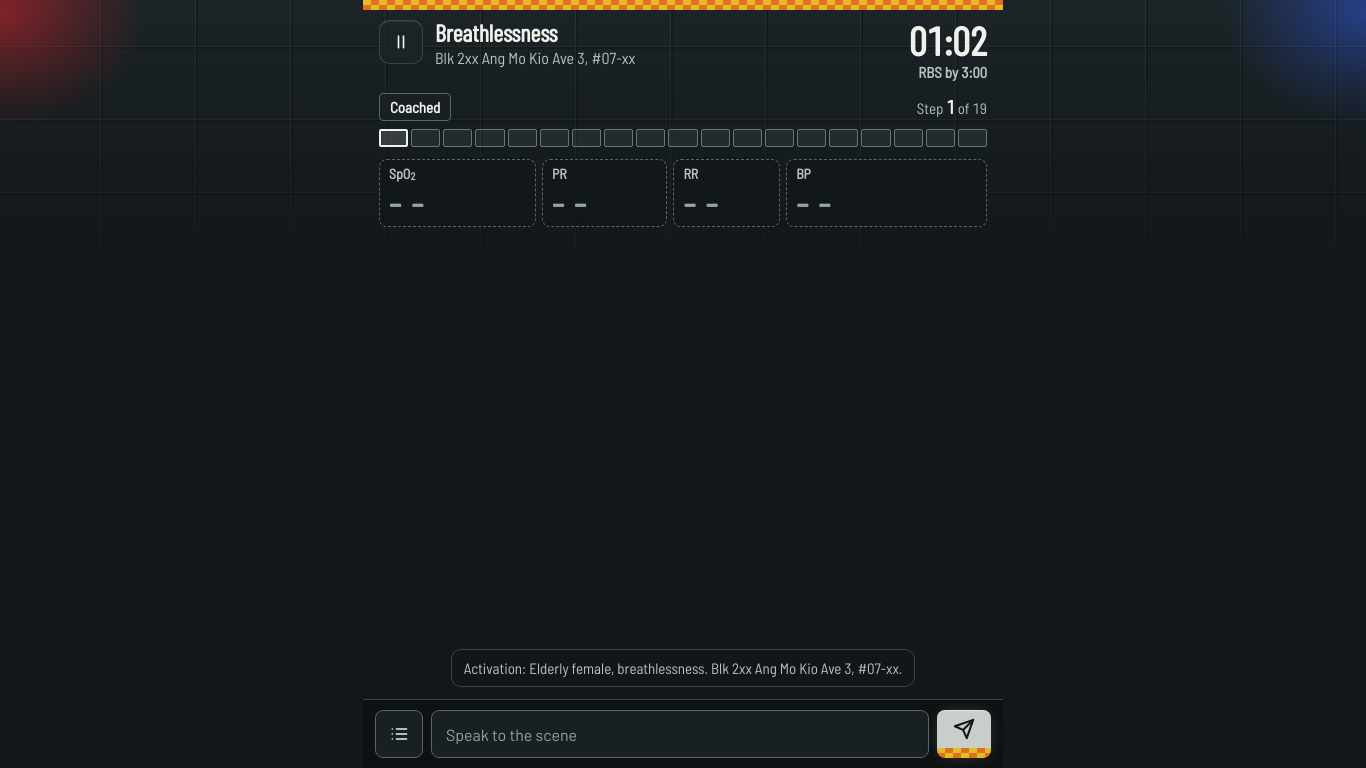
Test: Pause › opens the dialog "Paused": the clock stops, with Mode: Coached, End run, Restart case and Resume, Resume last
Click the button named "Pause".
click(401, 42)  # box top-left (379, 20), bottom-right (423, 64)
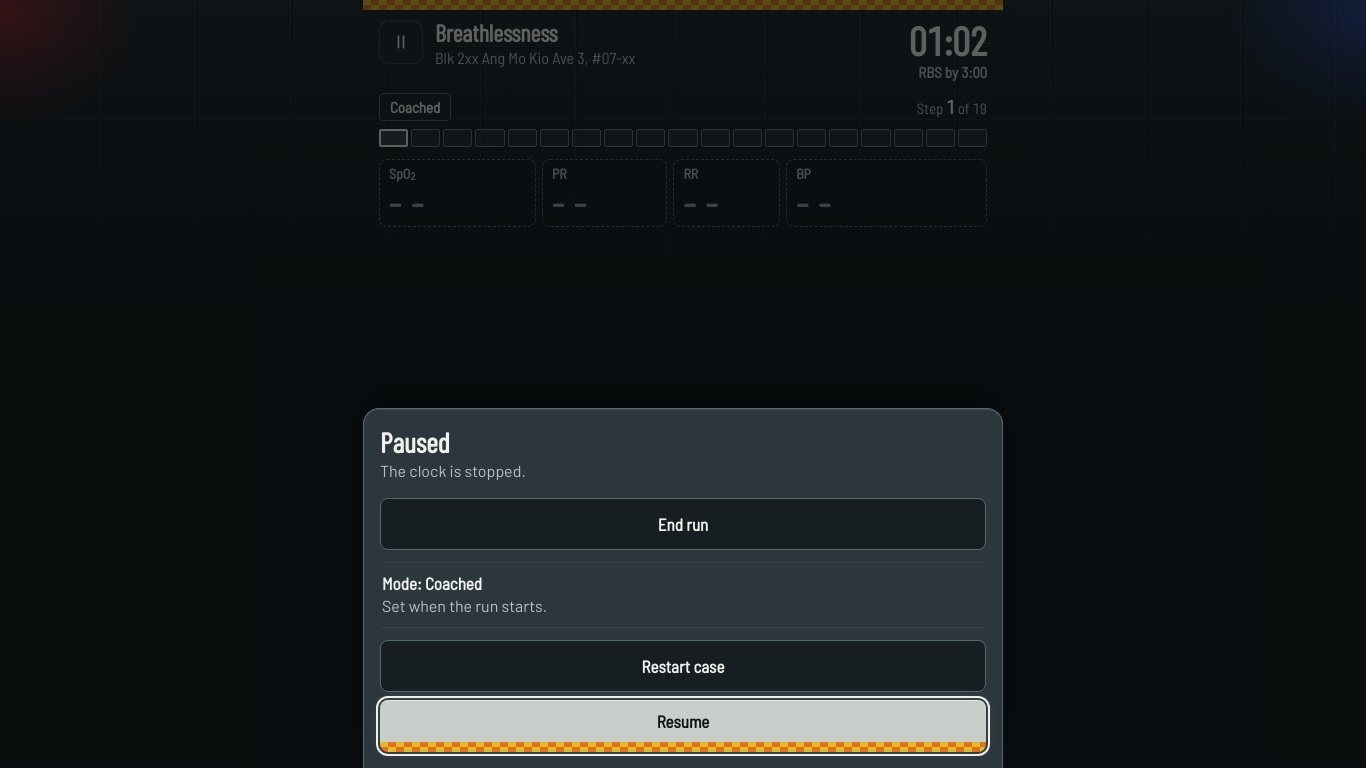
Check: the heading reads "Paused", box top-left (380, 425), bottom-right (450, 459)
Check: the text "The clock is stopped." is shown, box top-left (380, 461), bottom-right (526, 480)
Check: the text "Mode: Coached" is shown, box top-left (382, 573), bottom-right (482, 593)
